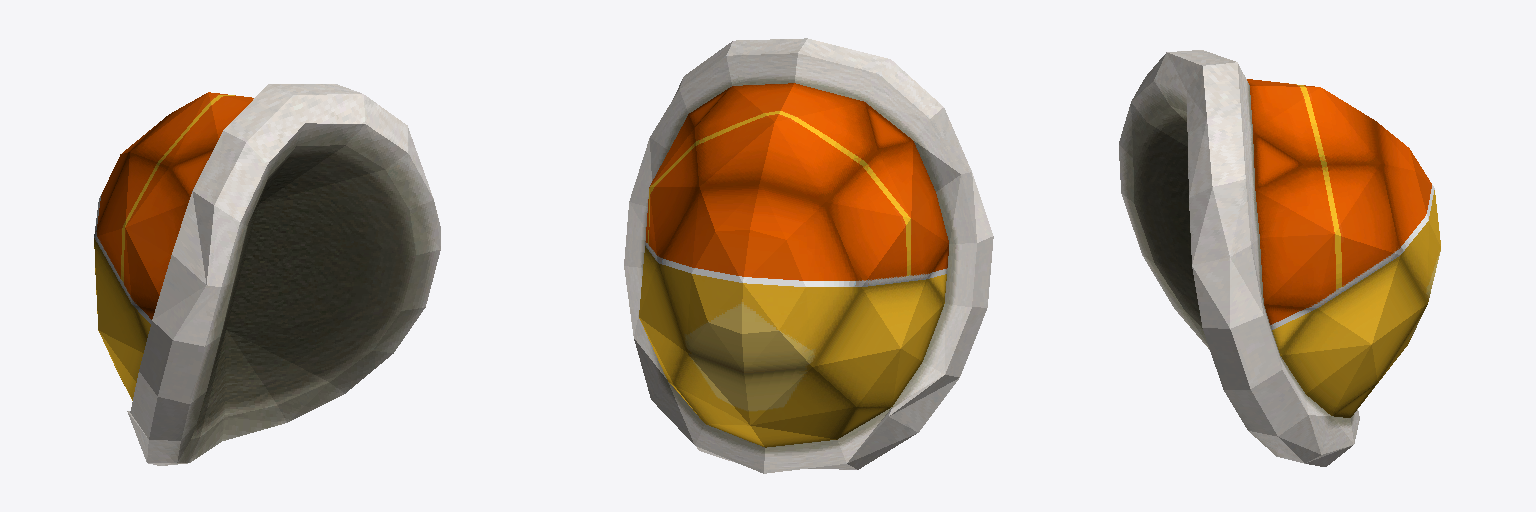
3 renders of one model, left to right at view 1: azimuth 30°, elevation 25°; view 2: azimuth 150°, elevation 25°; view 3: azimuth 270°, elevation 25°, orthographic.
Visible parts, largest first — view 1: ShellMesh_Mesh_0050; view 2: ShellMesh_Mesh_0050; view 3: ShellMesh_Mesh_0050.
Boxes of the visible parts, box(x1,y1,x2,y2) form: ShellMesh_Mesh_0050: box(94, 84, 440, 465); ShellMesh_Mesh_0050: box(624, 38, 993, 473); ShellMesh_Mesh_0050: box(1119, 50, 1440, 466).
Bounding box in the file's own units: 3.5 × 3.95 × 3.05.
Materials: 1 (1 with a texture image).